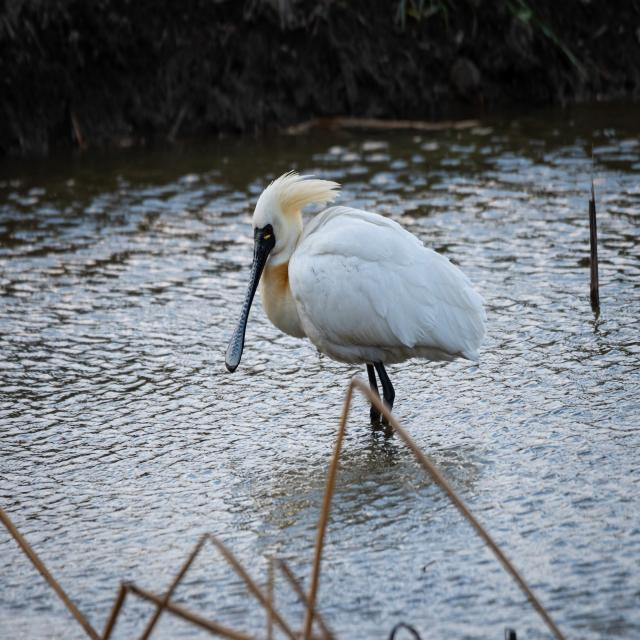Black-faced spoonbill: (226, 172, 486, 407)
